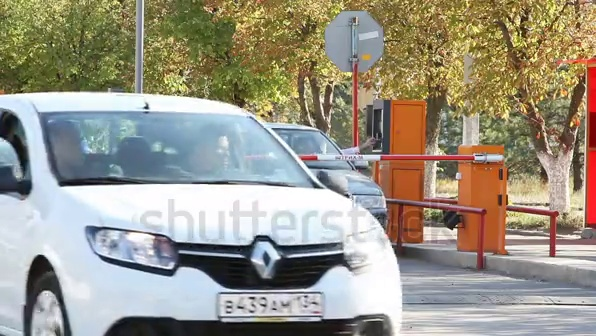licenseplate: (217, 286, 328, 322)
